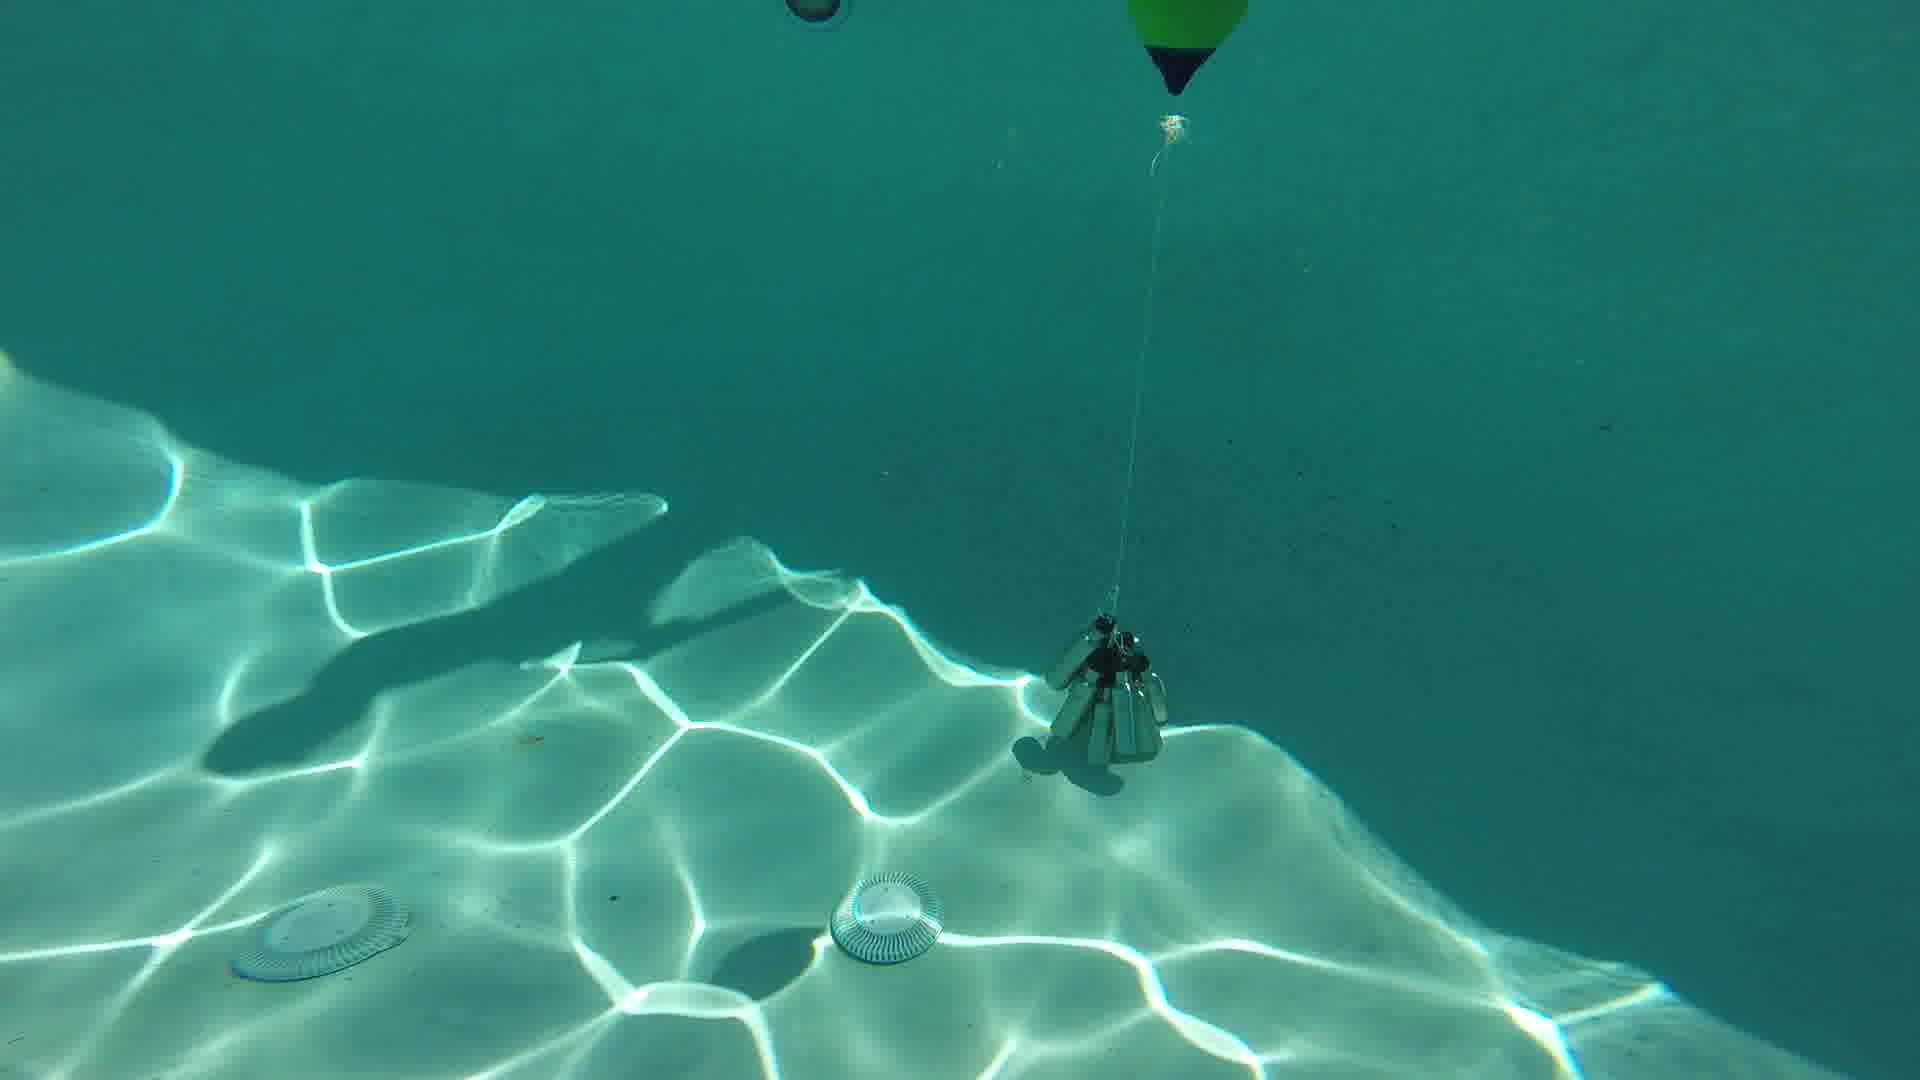yellow_buoy: (1125, 3, 1251, 142)
